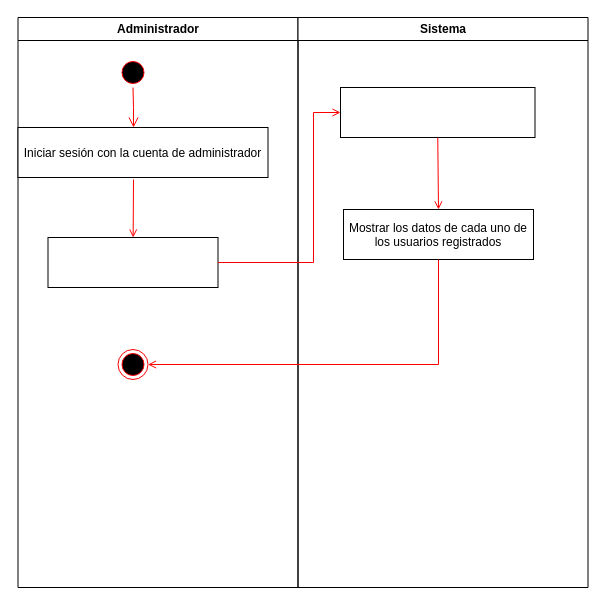
This 605x605 diagram has some shape labels left out. The box of each missing label's shape, as (x1, y1, x2, y2) in pixels:
Acceder al registro de usuario: (47, 236, 218, 288)
Mostrar lista de usuarios registrados: (340, 86, 535, 138)
